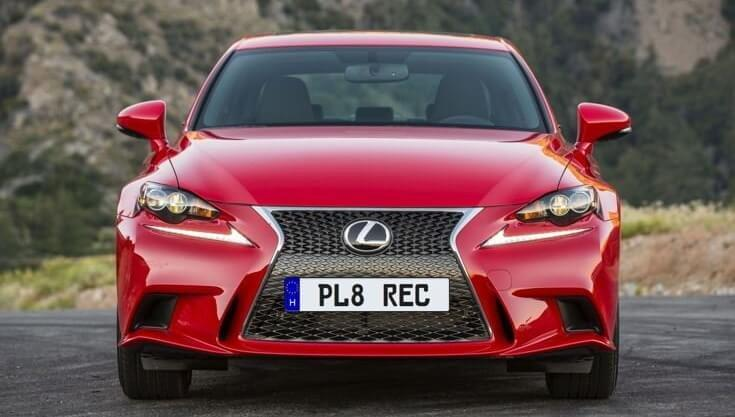Liscence Plate: (282, 280, 447, 312)
